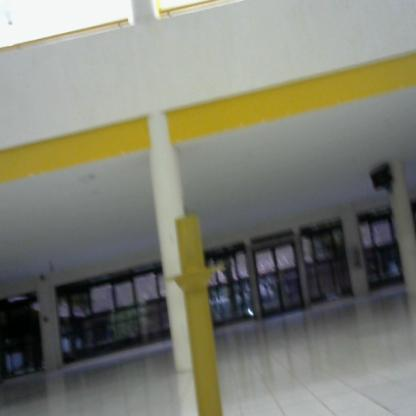pole: (164, 204, 231, 416)
